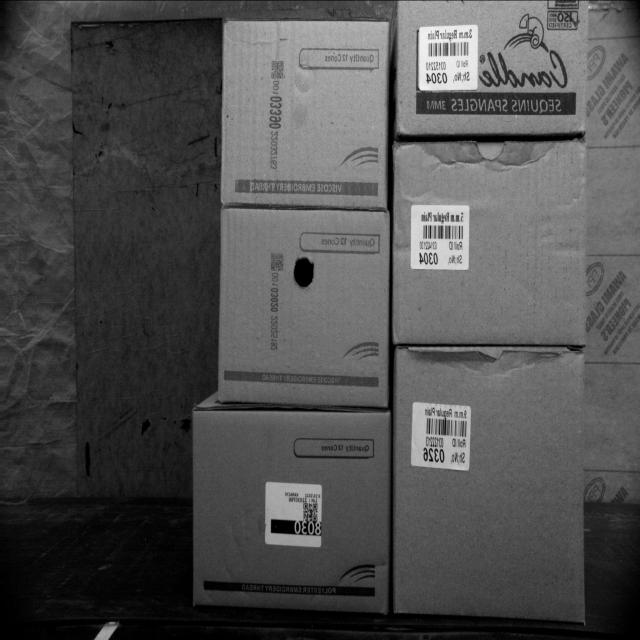cardboxes: (393, 350, 587, 620), (189, 407, 392, 615), (391, 141, 587, 347), (217, 209, 391, 411), (220, 22, 389, 209), (394, 0, 586, 132)
